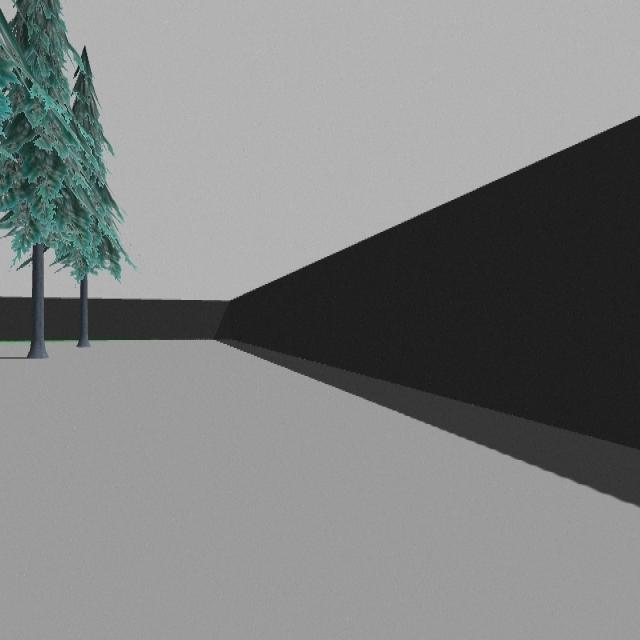tree: (0, 0, 129, 348)
